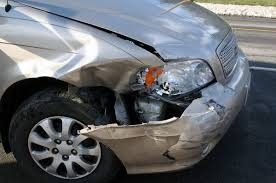Broken-glass: (132, 59, 217, 99)
Dent: (22, 28, 145, 97)
Smashed: (87, 90, 223, 177)
